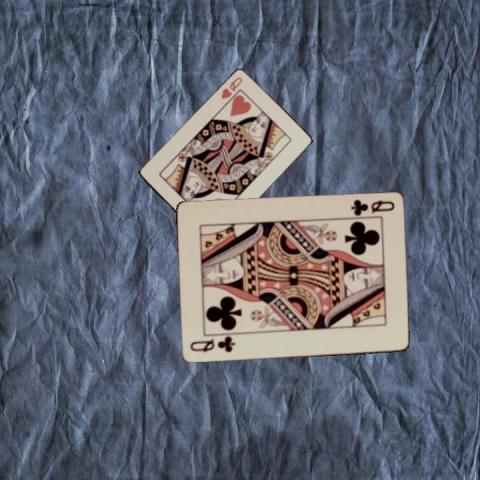Qc: (348, 197, 396, 218), (187, 335, 236, 354)
Qh: (218, 74, 244, 101)
